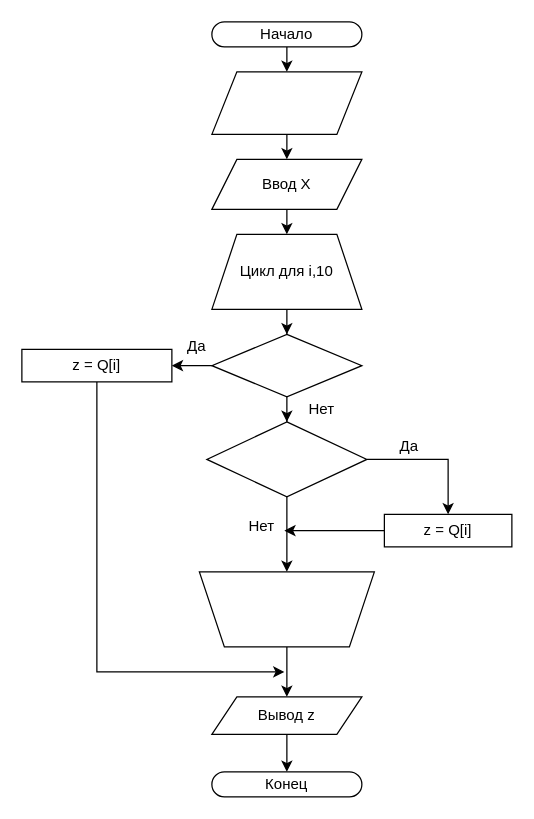
Image size: 534x819. Some labels were removed from this diagram. Here are the shapes that lost their labels. From the top down, the box of each, then its label:
(211, 71, 362, 134): Ввод элементов массива Q
(211, 333, 362, 397): Q[i] == X
(206, 421, 367, 497): (X - z) > (Q[i] - z)
(198, 571, 374, 647): Конец цикла для i
